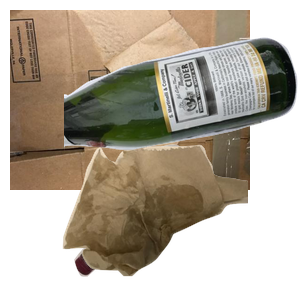cardboard: (10, 10, 250, 190)
glass: (64, 35, 300, 181)
plastic: (72, 142, 273, 300)
trash: (60, 142, 300, 300)
